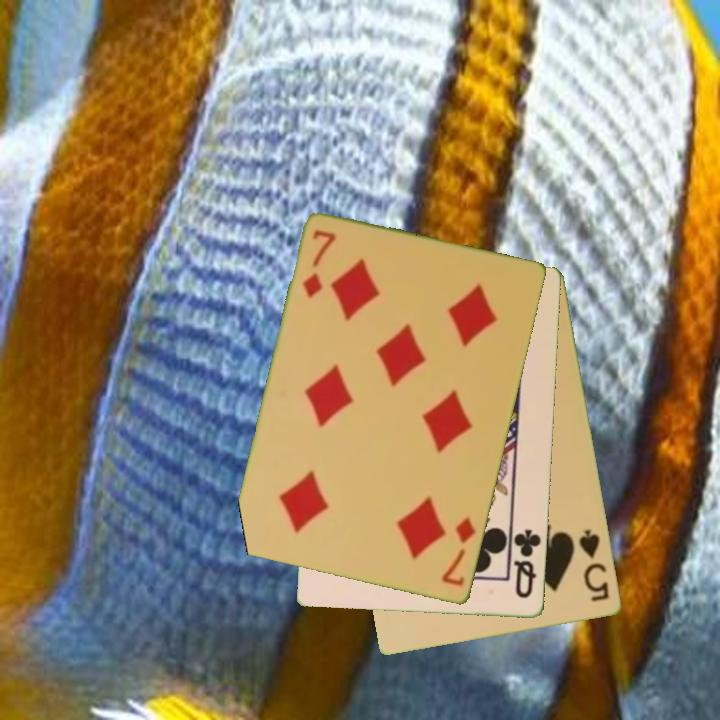5s: (575, 526, 613, 605)
7d: (438, 514, 479, 590), (299, 227, 339, 302)
Qc: (508, 523, 544, 602)
